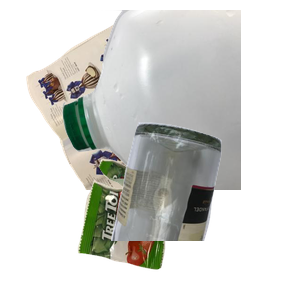glass: (109, 120, 300, 300)
paper: (24, 10, 235, 190)
plastic: (60, 10, 300, 190)
trash: (75, 156, 244, 300)
